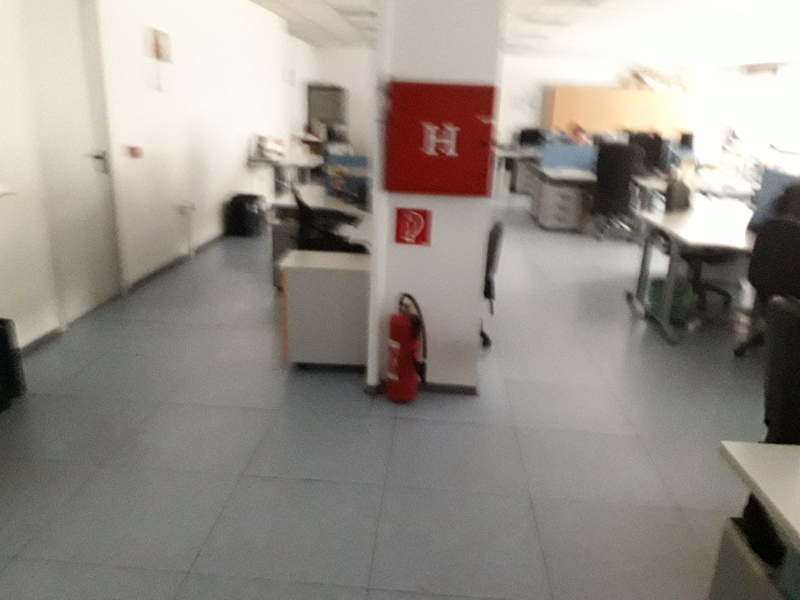vataparat: (387, 294, 428, 403)
